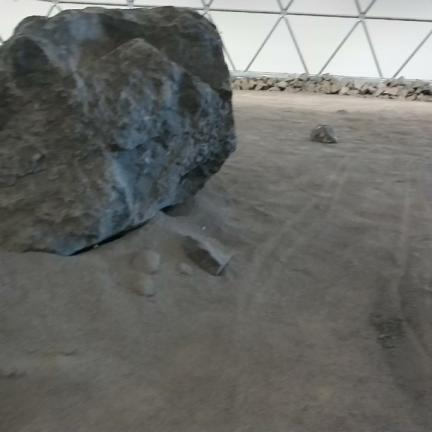Rock: (0, 7, 236, 254), (183, 236, 232, 275), (132, 250, 160, 274), (311, 125, 337, 143), (134, 275, 155, 296), (379, 87, 398, 96), (387, 77, 406, 86), (179, 263, 193, 275), (360, 84, 375, 95), (410, 80, 428, 88), (349, 81, 363, 91), (303, 82, 316, 92), (320, 82, 331, 93), (244, 80, 257, 89), (277, 80, 288, 90), (330, 83, 341, 93), (263, 78, 278, 85), (372, 88, 384, 96), (398, 88, 407, 98), (291, 80, 303, 87), (329, 77, 341, 84), (308, 77, 322, 83), (339, 87, 349, 95), (254, 84, 267, 90), (374, 82, 387, 88), (298, 74, 308, 80), (321, 74, 331, 80), (382, 79, 391, 85), (415, 88, 424, 94), (348, 90, 358, 95), (284, 77, 296, 81), (269, 87, 280, 91)
